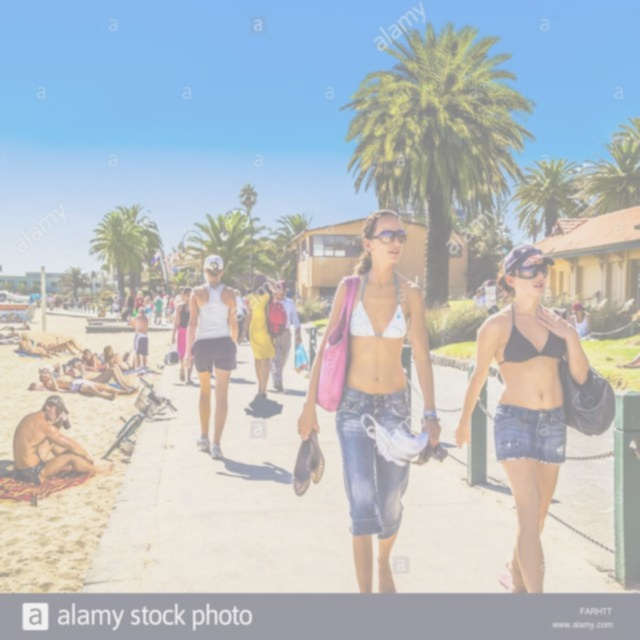pessoa: (296, 208, 448, 594), (456, 242, 588, 594), (184, 251, 242, 462), (12, 395, 115, 486), (235, 272, 288, 399), (37, 362, 142, 402), (270, 280, 304, 392), (59, 361, 137, 395), (212, 456, 296, 486), (169, 286, 193, 386), (173, 289, 196, 363), (452, 283, 498, 314), (129, 306, 150, 368), (17, 332, 62, 360), (103, 345, 142, 372), (568, 302, 593, 342), (36, 336, 85, 356), (232, 288, 247, 346), (81, 348, 108, 370), (68, 294, 95, 314), (124, 290, 136, 324), (0, 319, 31, 332), (143, 294, 155, 326), (152, 295, 164, 326), (162, 290, 172, 323), (172, 284, 185, 308), (242, 314, 252, 344), (4, 326, 21, 343), (168, 292, 177, 324), (12, 296, 39, 306), (44, 294, 63, 308), (134, 290, 145, 314), (124, 292, 132, 320), (111, 296, 121, 318), (165, 296, 173, 323), (97, 300, 107, 320), (10, 310, 24, 324), (226, 312, 232, 338), (47, 294, 55, 312), (240, 287, 252, 299), (152, 290, 162, 304), (284, 287, 292, 304), (292, 290, 300, 305), (90, 352, 106, 359), (69, 294, 75, 312), (54, 296, 60, 312), (58, 296, 64, 310), (118, 298, 122, 318), (155, 316, 162, 326), (0, 317, 11, 323), (0, 292, 6, 303), (162, 288, 167, 300), (132, 291, 139, 299), (36, 298, 40, 310), (168, 292, 174, 300), (142, 295, 147, 302), (62, 297, 66, 302), (154, 306, 157, 310), (66, 298, 68, 302)
